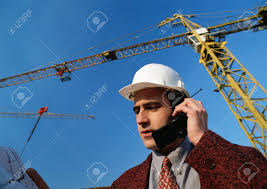Person_wearing_helmet: (121, 62, 186, 120)
